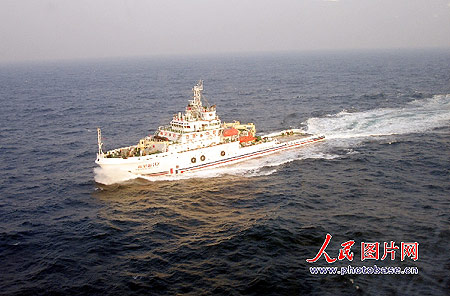warship: (95, 83, 330, 187)
